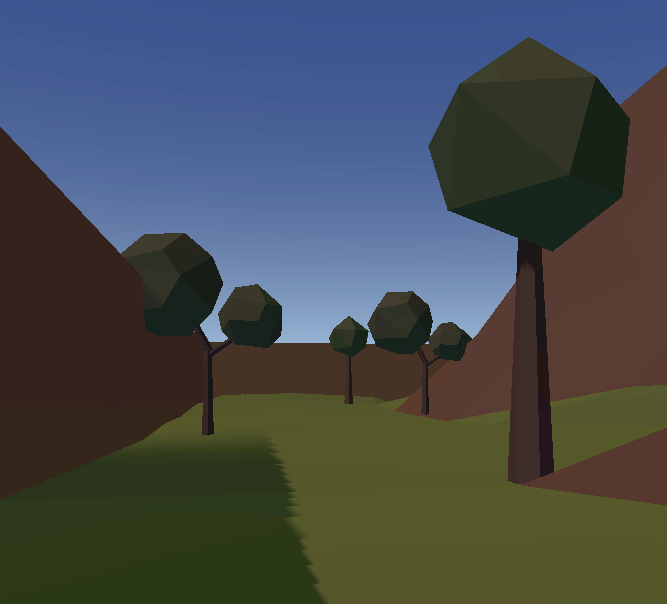tree: (426, 36, 620, 442), (116, 233, 284, 436), (366, 290, 475, 418), (317, 316, 369, 403)
